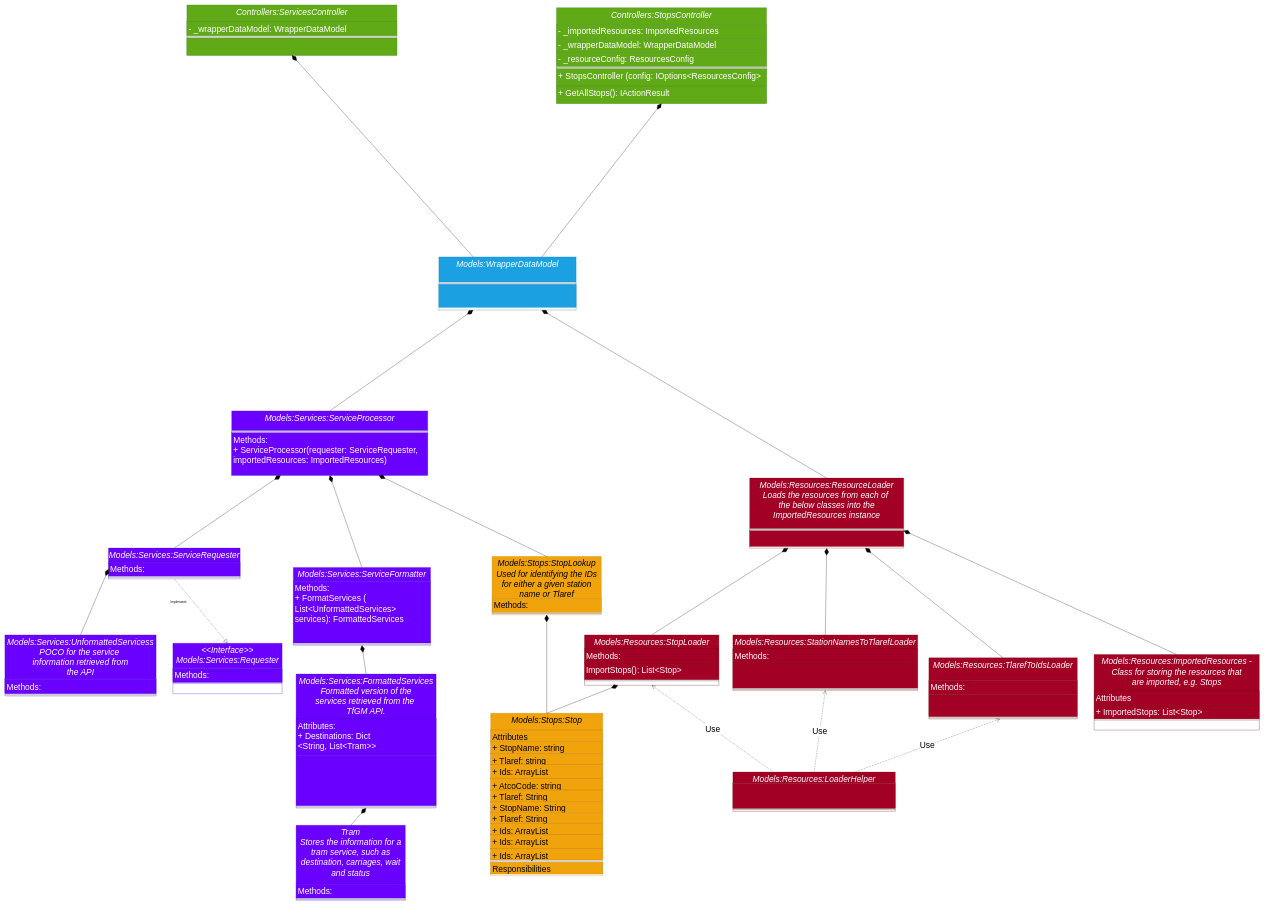
This 1264x905 diagram has some shape labels left out. The shapes that lost their labels are listed below. From the top down, each one's centre as x and y in pixels, then its label:
At point 292,46: "+ ServicesController(): ServicesController".
At point 507,295: "+ ImportResources: ImportedResources".
At point 826,538: "+ Load Resources: ImportedResources".
At point 825,675: "+ ImportStationNamesToTlaref: Dict[string, string]".
At point 1003,705: "+ ImportTlarefToIds: Dict[string, string".
At point 366,780: "Methods: + AddTramService(tram Tram): void + AddMessage(message: string)".
At point 814,796: "+ CheckFileRequirements (filePath: string, argName: string): string".
